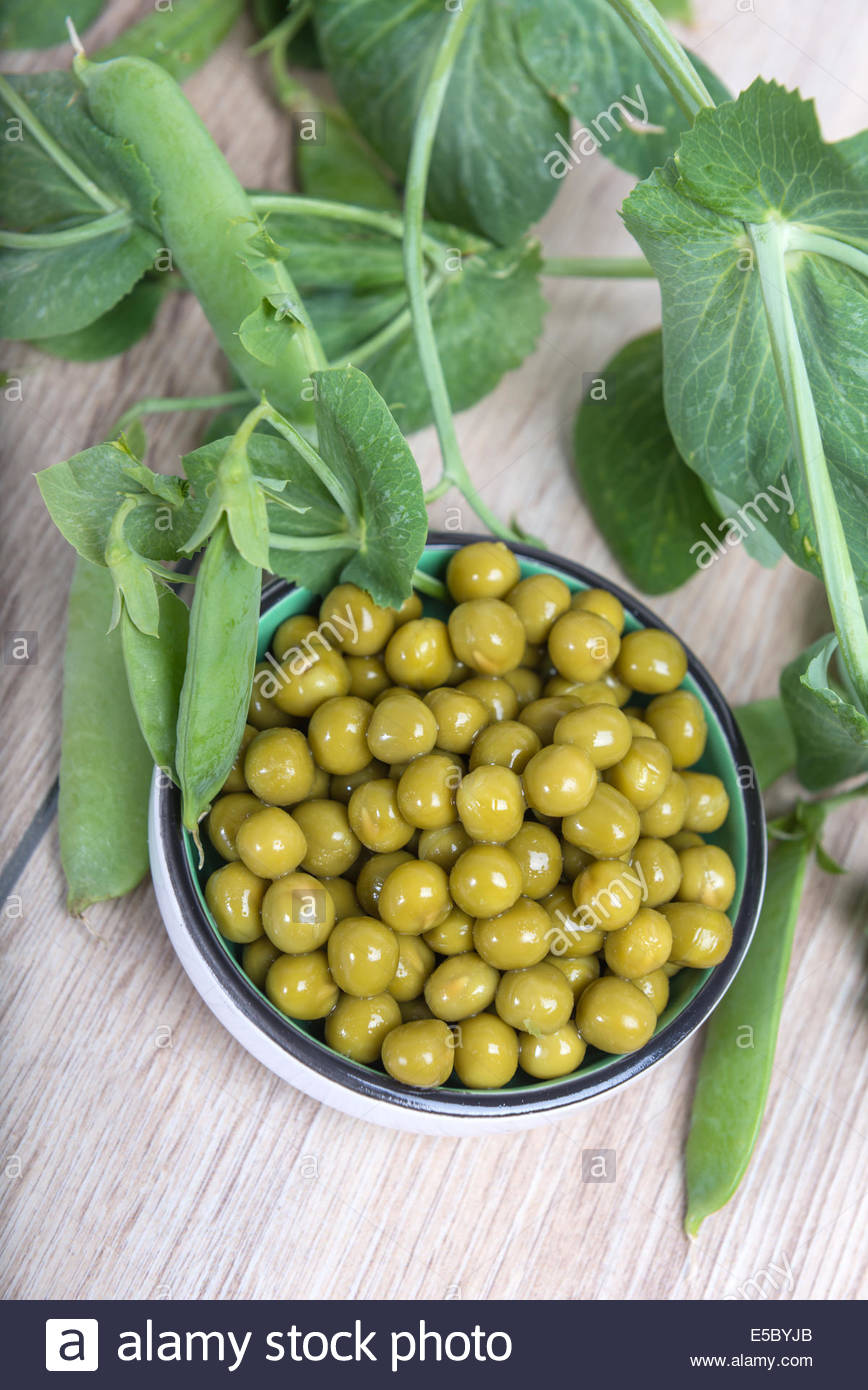boiled peas: (241, 616, 727, 1053)
